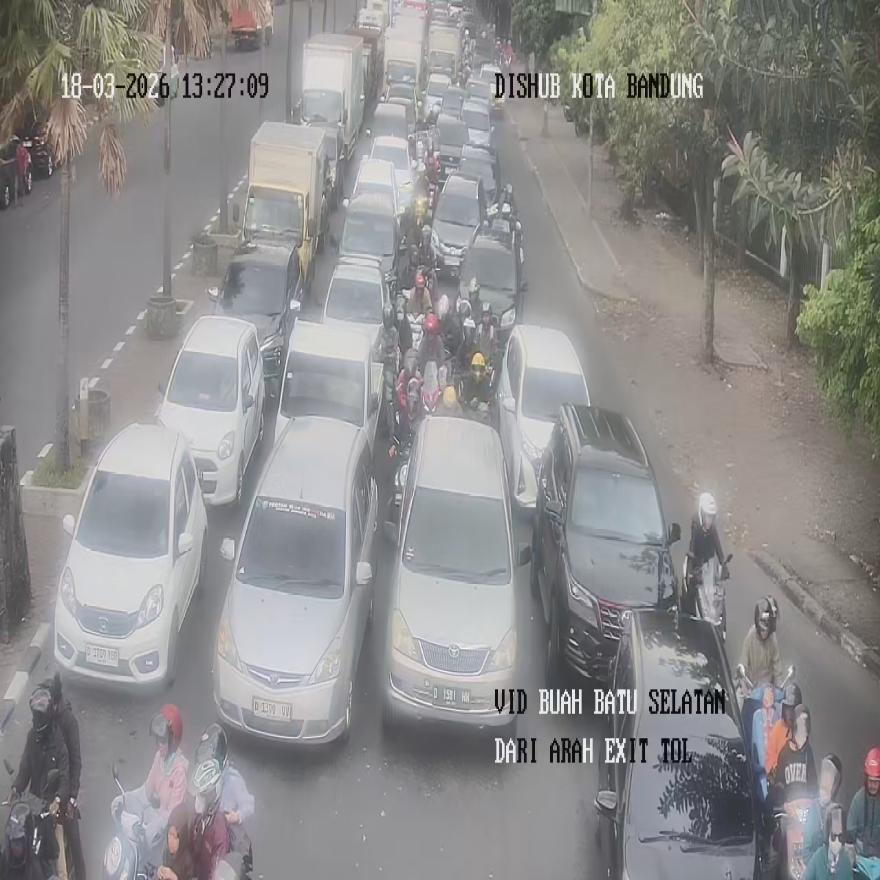Mobil: (212, 417, 378, 746), (382, 411, 530, 732), (594, 606, 758, 878), (529, 404, 681, 684), (54, 421, 208, 690), (155, 315, 264, 506), (495, 325, 591, 516), (274, 320, 381, 471), (207, 237, 302, 400)
Motor: (188, 722, 253, 880), (735, 664, 793, 809), (102, 761, 168, 879), (1, 759, 61, 880), (684, 551, 731, 647)
